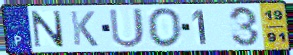1: (191, 9, 209, 46)
3: (227, 5, 261, 48)
K: (69, 9, 101, 48)
N: (30, 9, 66, 49)
O: (146, 7, 184, 49)
U: (107, 7, 147, 50)
